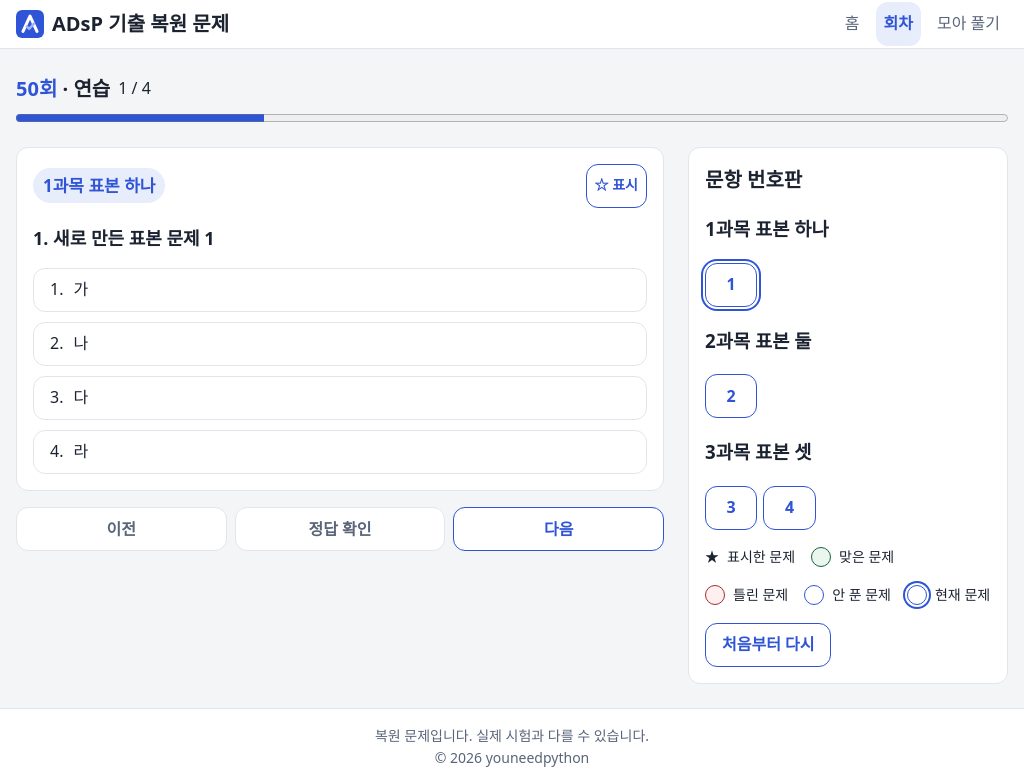
Test case: existing practice screen keeps footer and main navigation
Expected: the heading "50회 · 연습" is shown, [16,73,110,105]
Expected: the text "복원 문제입니다. 실제 시험과 다를 수 있습니다." is shown, [375,726,649,744]
Step 1. Click the link "ADsP 기출 복원 문제" → (123, 24), box [16,10,229,38]
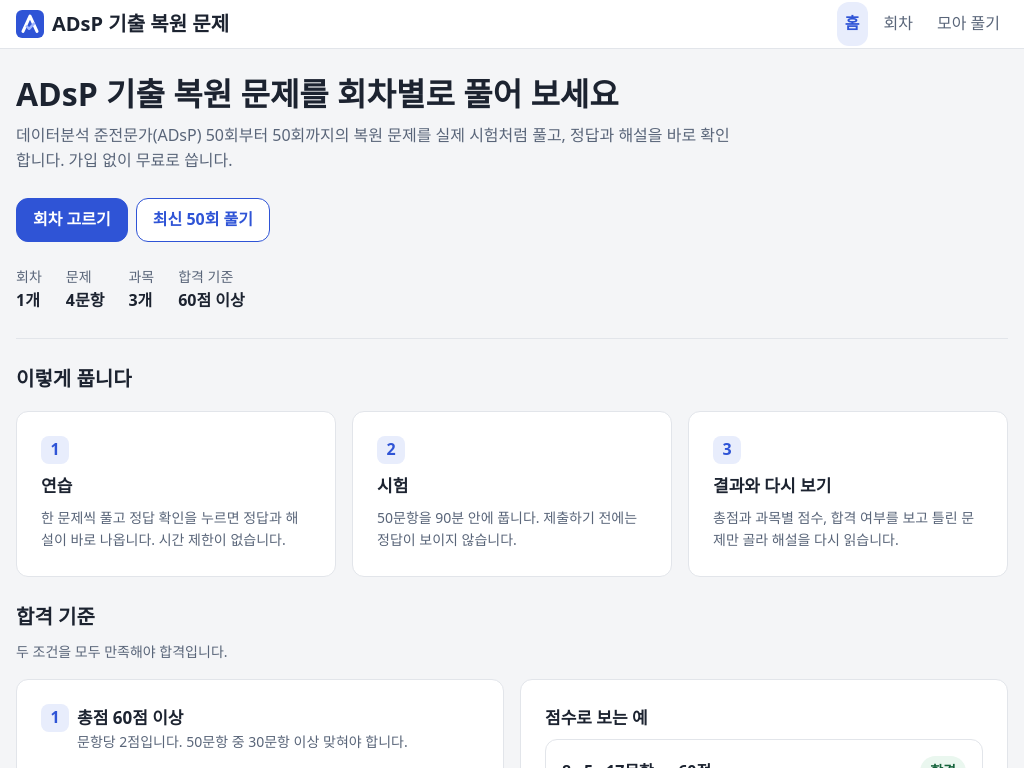
Result: the link "최신 50회 풀기" is shown at [136,198,270,242]
